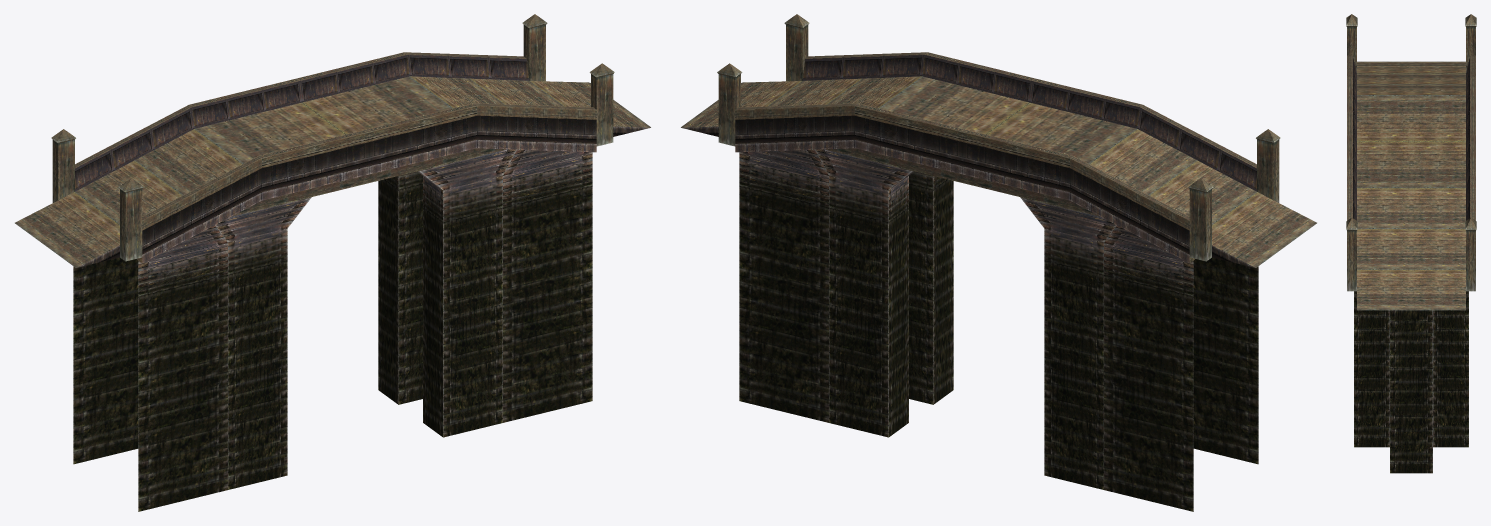
Rendered from tn3_bridge3.glb.
The picture shows the model from 3 angles, left to right: view 1: azimuth 30°, elevation 25°; view 2: azimuth 150°, elevation 25°; view 3: azimuth 270°, elevation 25°; orthographic projection. The views are drawn at different scales.
Parts seen in each view (by area): view 1: tn3_bridge3; view 2: tn3_bridge3; view 3: tn3_bridge3.
Part boxes in pixels (x1,y1,x2,y2): tn3_bridge3: (15, 14, 650, 511); tn3_bridge3: (681, 14, 1316, 511); tn3_bridge3: (1346, 14, 1476, 473).
Size of the model in its own units: 34.07 by 19.04 by 7.56.
Materials: 7 (7 with a texture image).
